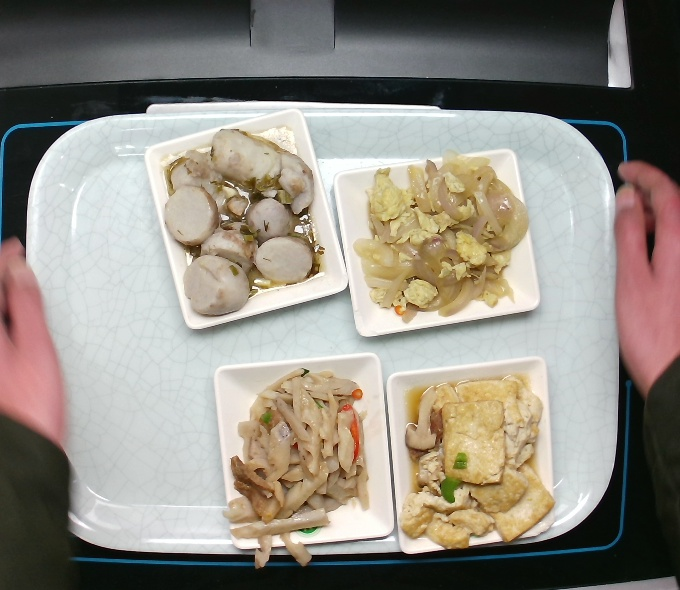wcq-JiaChangDouFu: (398, 368, 558, 555)
wcq-QingChaoOuPian: (224, 361, 374, 572)
wcq-YangCongChaoDan: (351, 150, 535, 327)
wcq-YangYu: (162, 124, 328, 317)
